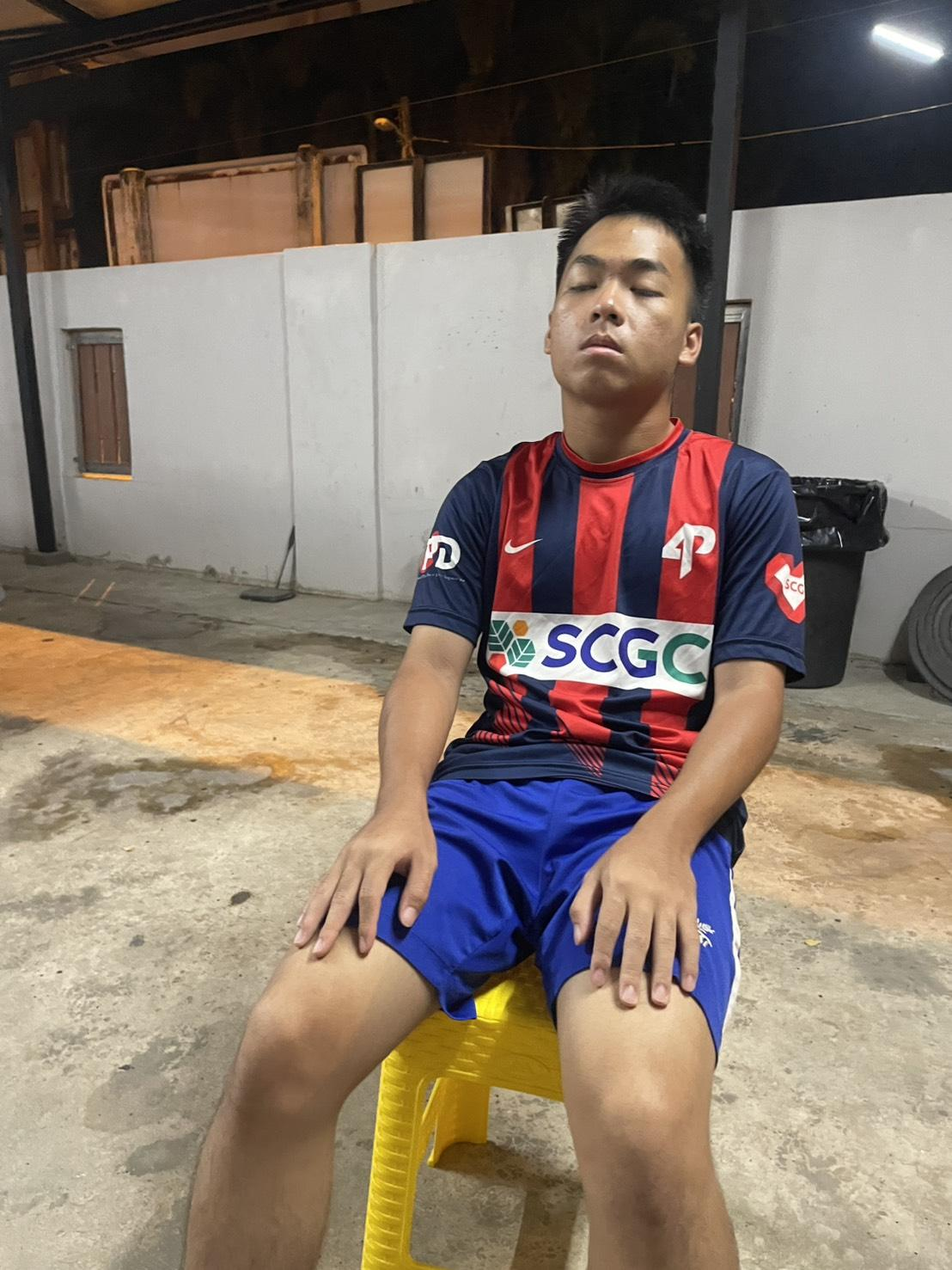BadPosture: (238, 174, 802, 1087)
